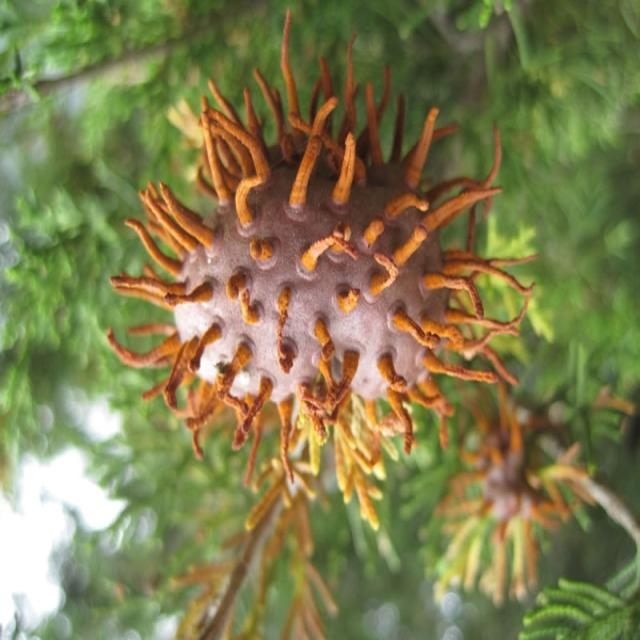Gymnosporangium_Rusts: (105, 9, 538, 518)
